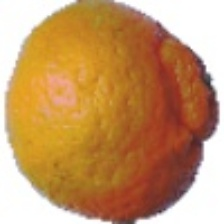tangerine: (40, 47, 210, 203)
